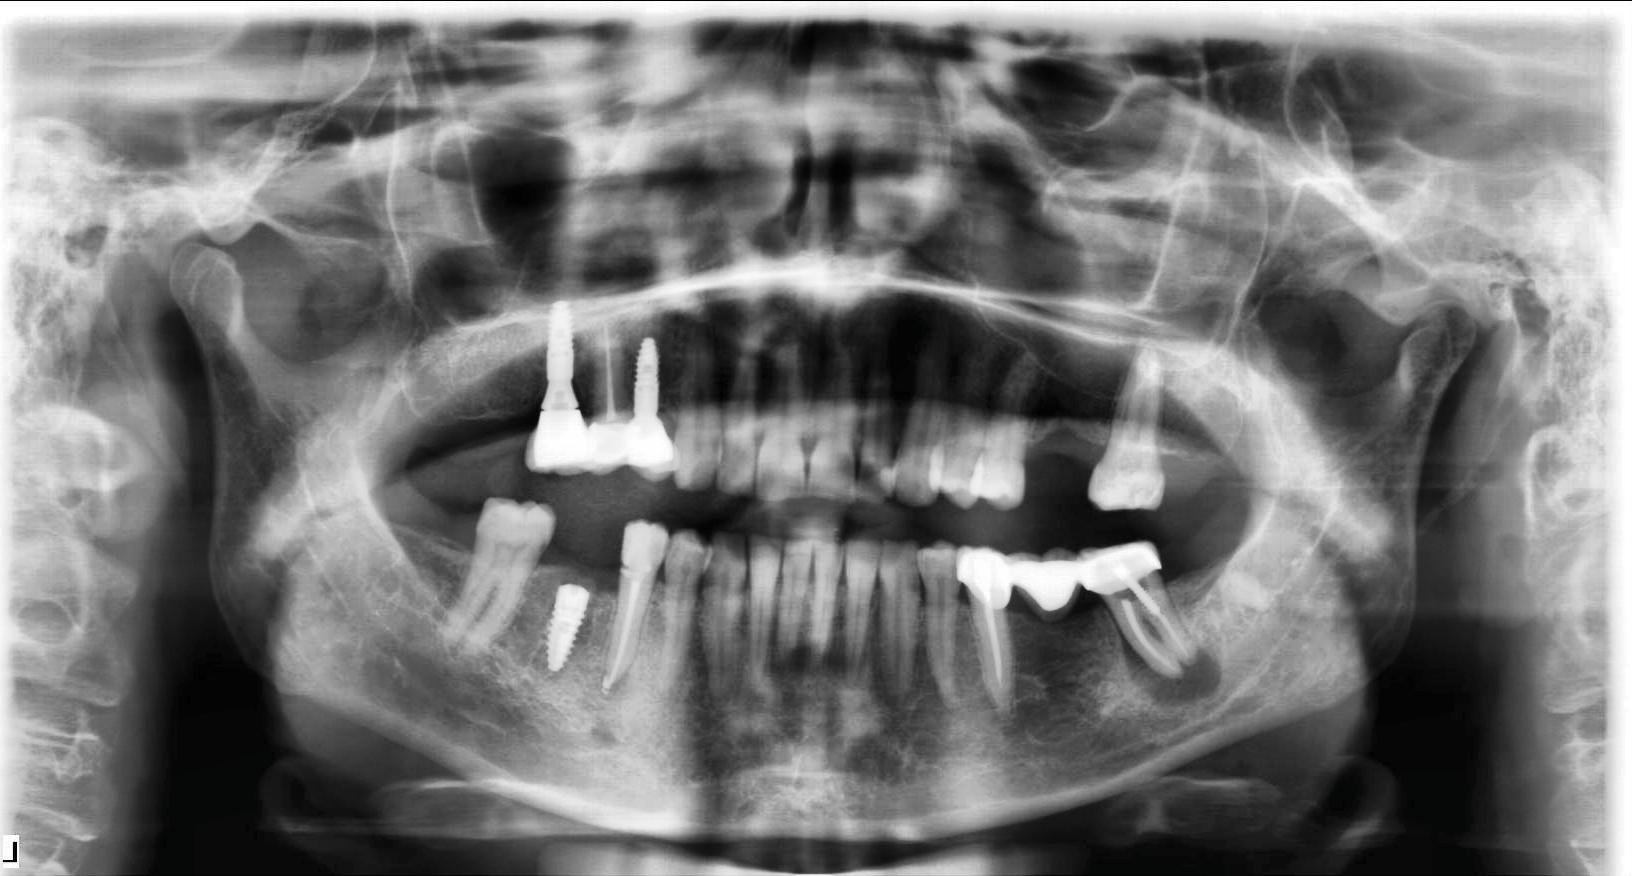radikuler: (1120, 615, 1222, 707)
